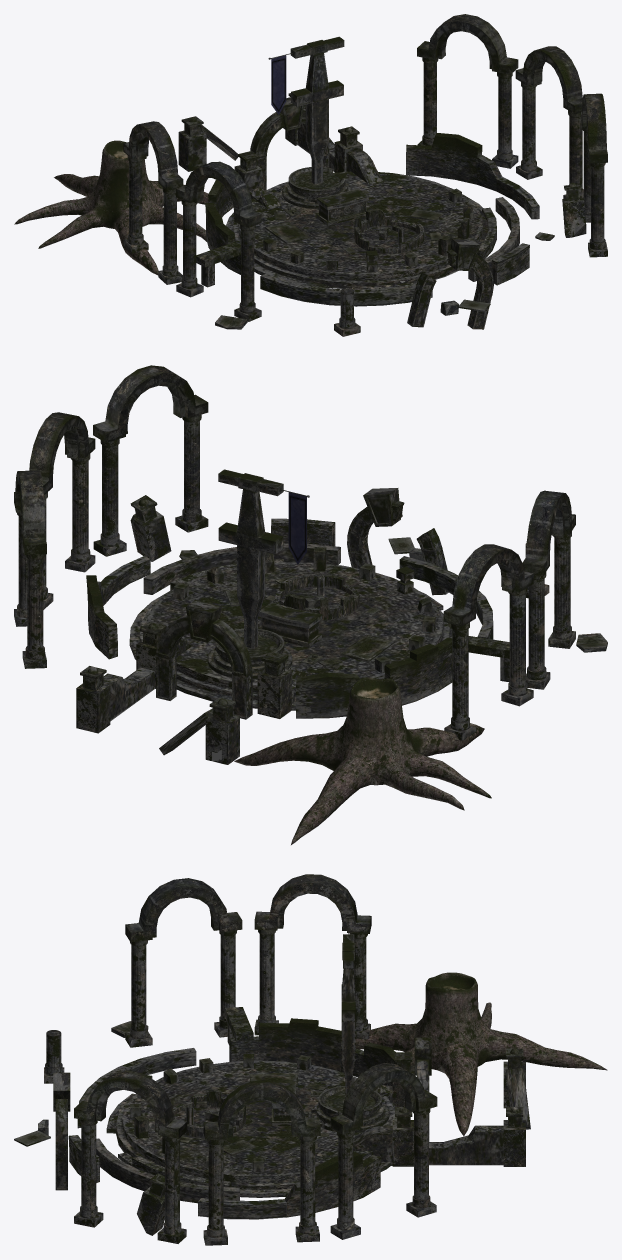
The model's file is altar_ruins.glb.
3 views of the same model, one above another, from view 1: azimuth 30°, elevation 25°; view 2: azimuth 150°, elevation 25°; view 3: azimuth 270°, elevation 25° (orthographic). The views are drawn at different scales.
Parts seen in each view (by area): view 1: node_Platform_-3306_4, node_Arches_-3290_2, node_Entrance_-3270_1, node_Altar_-3260_3, node_Tree_-3298_5, node_Flag_-3316_6; view 2: node_Arches_-3290_2, node_Platform_-3306_4, node_Entrance_-3270_1, node_Altar_-3260_3, node_Tree_-3298_5, node_Flag (1)_-3280_10; view 3: node_Arches_-3290_2, node_Platform_-3306_4, node_Entrance_-3270_1, node_Tree_-3298_5, node_Altar_-3260_3.
Boxes of the visible parts, x1,y1,x2,y2 form: node_Platform_-3306_4: (196, 133, 539, 306); node_Arches_-3290_2: (123, 14, 607, 336); node_Entrance_-3270_1: (178, 93, 586, 329); node_Altar_-3260_3: (215, 36, 554, 329); node_Tree_-3298_5: (14, 140, 208, 275); node_Flag_-3316_6: (271, 55, 286, 114); node_Arches_-3290_2: (14, 365, 575, 740); node_Platform_-3306_4: (86, 518, 509, 718); node_Entrance_-3270_1: (76, 488, 448, 764); node_Altar_-3260_3: (173, 469, 607, 679); node_Tree_-3298_5: (234, 677, 491, 844); node_Flag (1)_-3280_10: (288, 492, 306, 564); node_Arches_-3290_2: (44, 874, 437, 1245); node_Platform_-3306_4: (68, 1007, 396, 1219); node_Entrance_-3270_1: (38, 1037, 530, 1235); node_Tree_-3298_5: (355, 972, 607, 1135); node_Altar_-3260_3: (14, 924, 389, 1172).
Bounding box in the file's own units: 100 × 42.69 × 103.
Materials: 6 (6 with a texture image).
